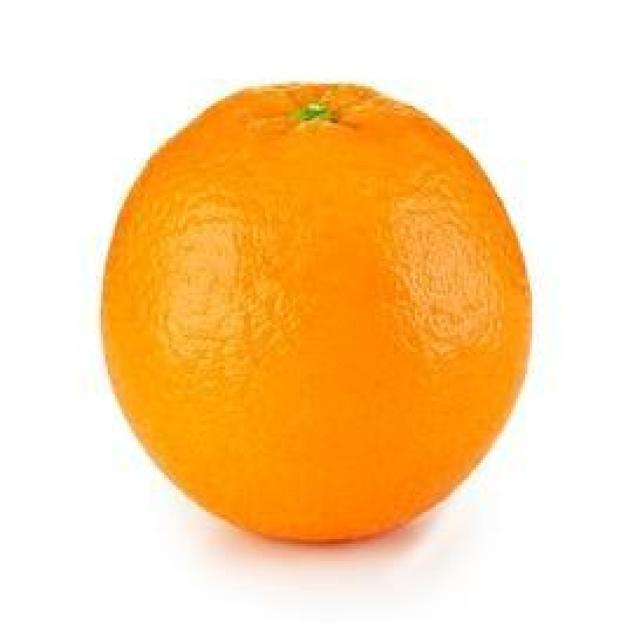orange: (99, 72, 536, 547)
